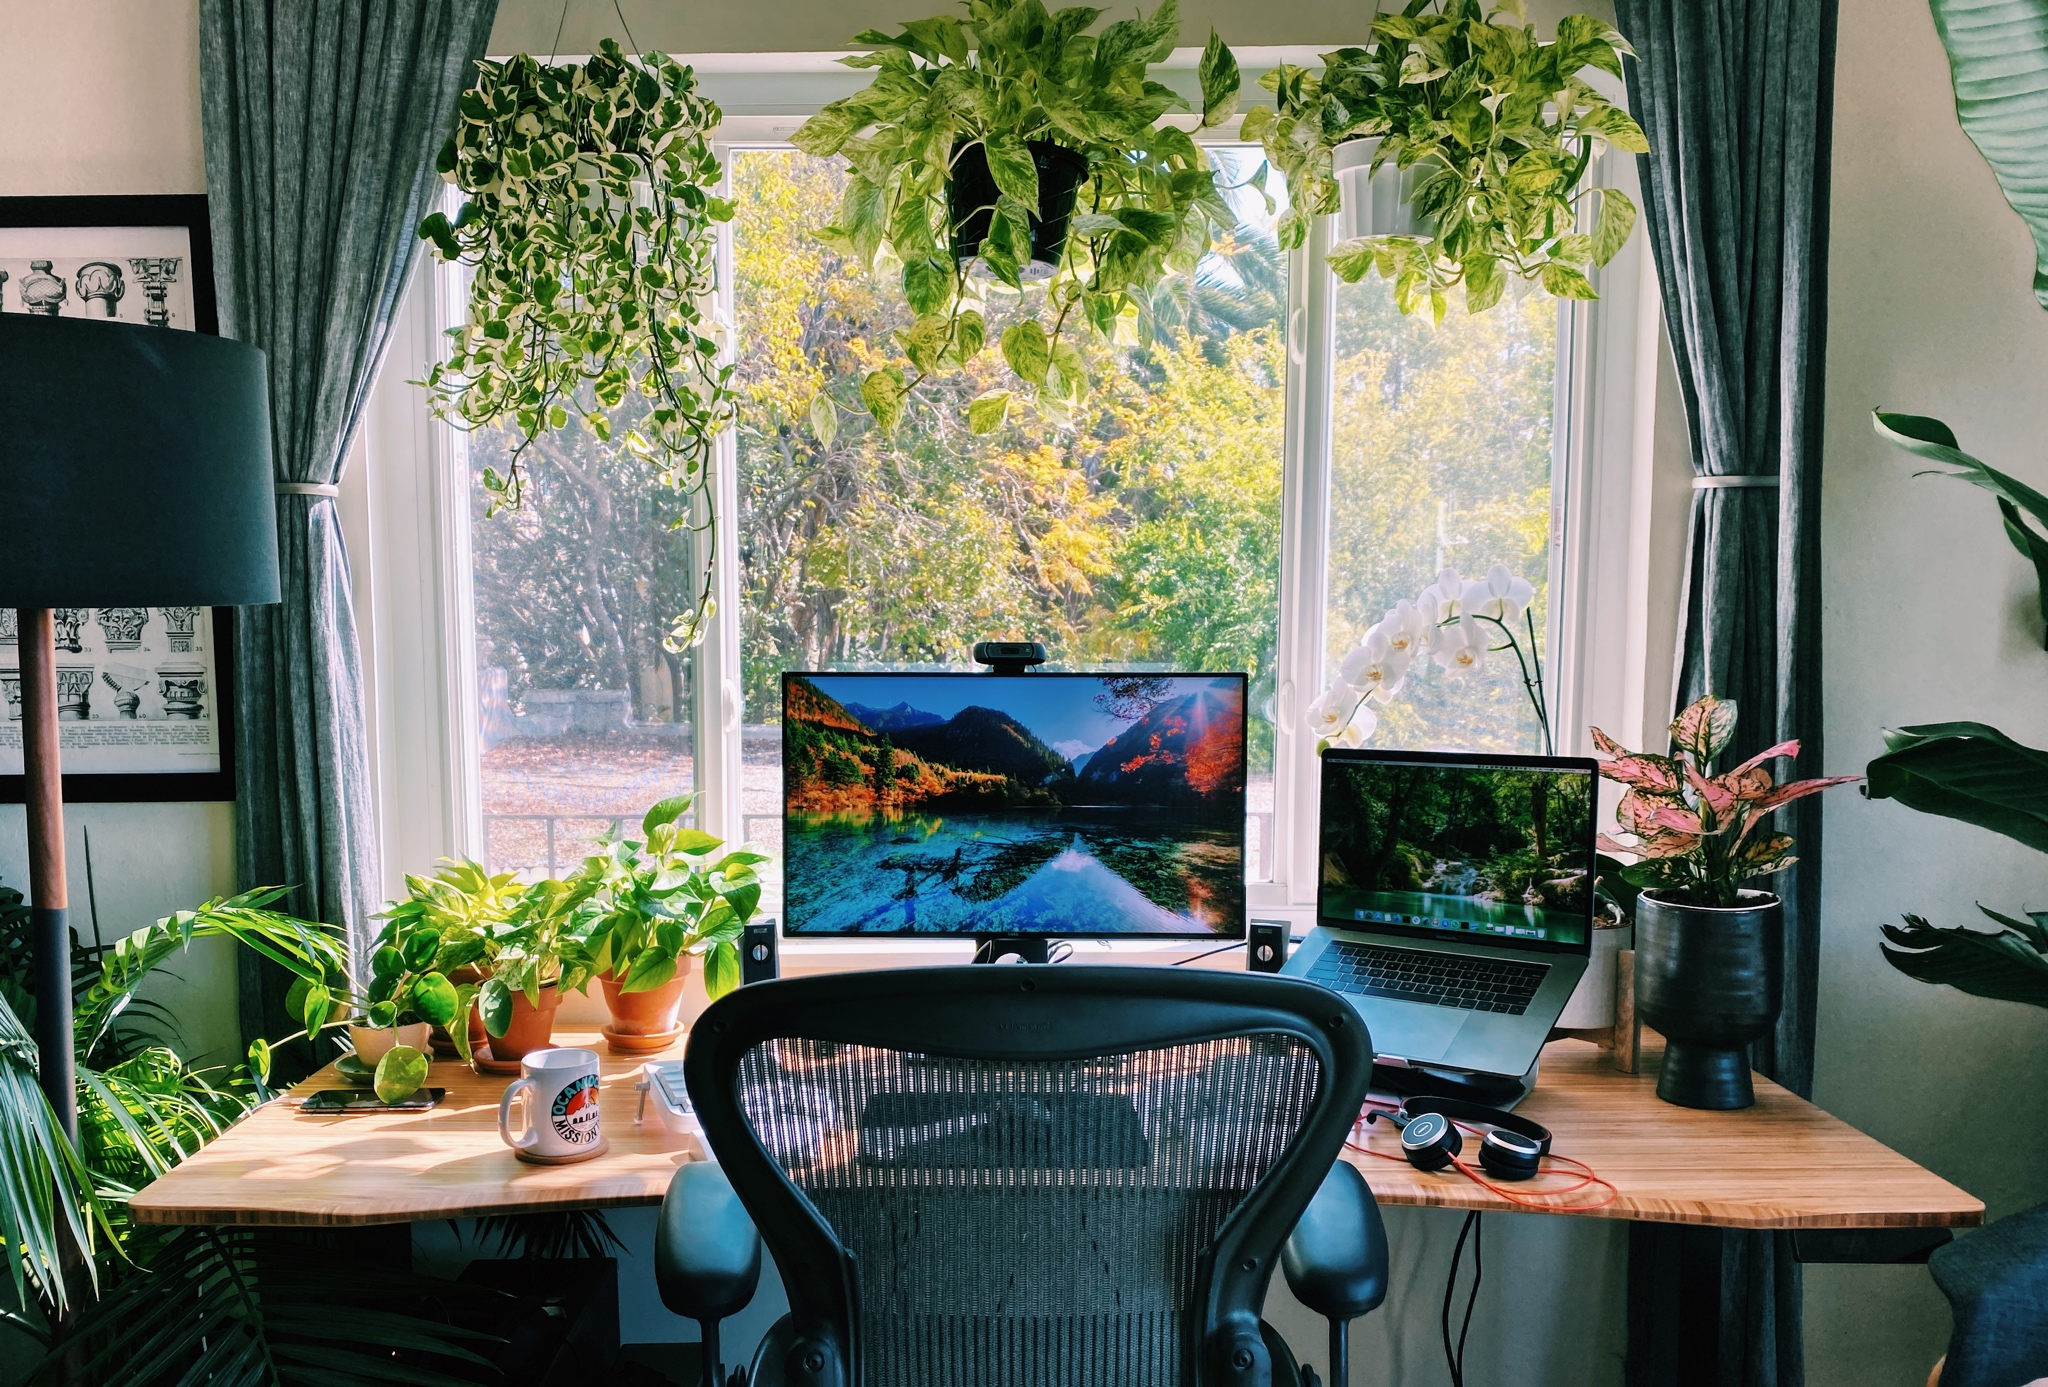Chair (Generic): (649, 961, 1392, 1385)
Decoration (Picture): (2, 193, 235, 803)
Decoration (Plant): (1861, 8, 2046, 1387), (406, 36, 741, 653), (786, 5, 1240, 430), (2, 892, 353, 1379), (218, 791, 769, 1077), (1238, 2, 1653, 327), (1588, 693, 1873, 1111), (1302, 560, 1570, 751)
Desk (Generic): (128, 1019, 1988, 1385)
External Webcam: (966, 638, 1043, 673)
Lamp (Floor): (2, 317, 280, 1268)
Laptop (OSX): (1272, 748, 1601, 1074)
Laptop Stand: (1362, 1056, 1540, 1128)
Monitor (Landscape): (779, 670, 1246, 943)
Mug: (498, 1046, 605, 1164)
